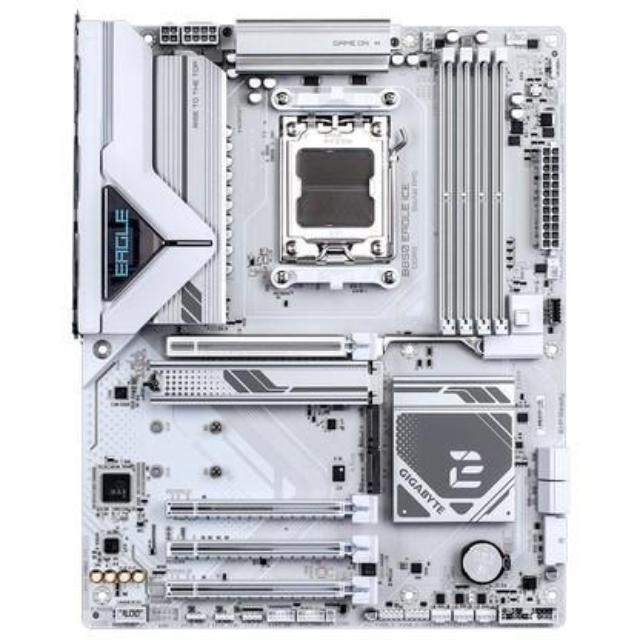Mainboard: (53, 0, 582, 637)
